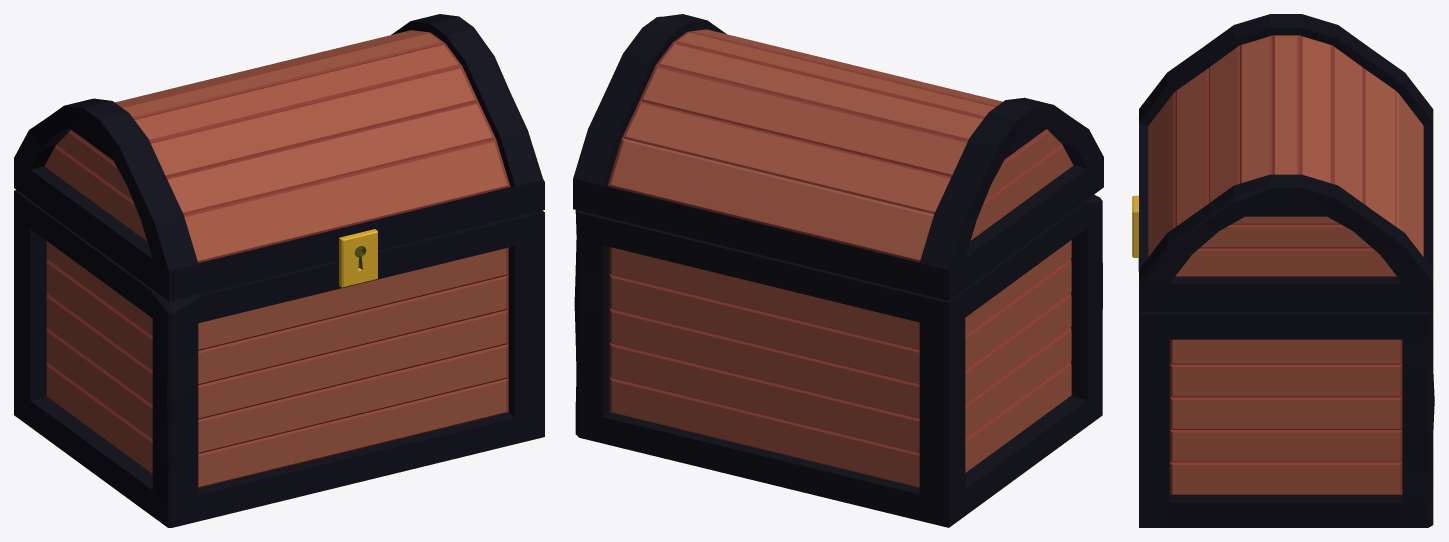
Rendered from chest.fbx.
3 renders of one model, left to right at view 1: azimuth 30°, elevation 25°; view 2: azimuth 150°, elevation 25°; view 3: azimuth 270°, elevation 25°, orthographic. The views are drawn at different scales.
Parts seen in each view (by area): view 1: chest; view 2: chest; view 3: chest.
Boxes of the visible parts, x1,y1,x2,y2 form: chest: [14, 14, 544, 527]; chest: [573, 14, 1103, 527]; chest: [1132, 14, 1434, 527].
Size of the model in its own units: 70.46 by 63.68 by 51.37.
